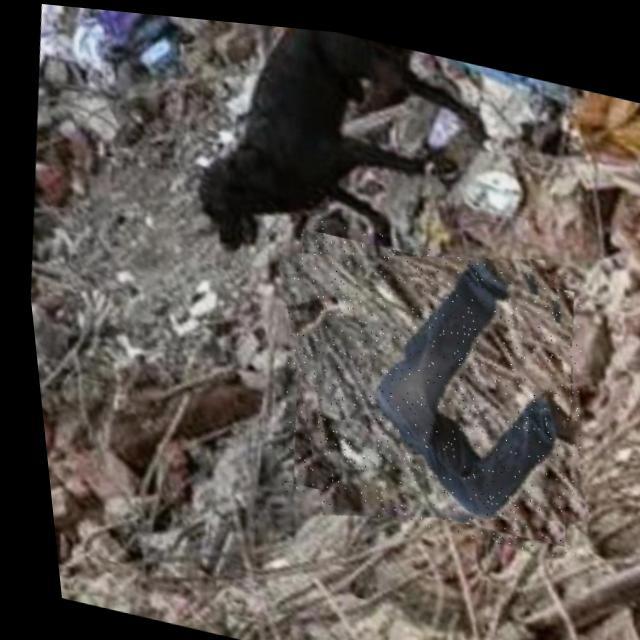Person in Rubble: (248, 204, 605, 554)
